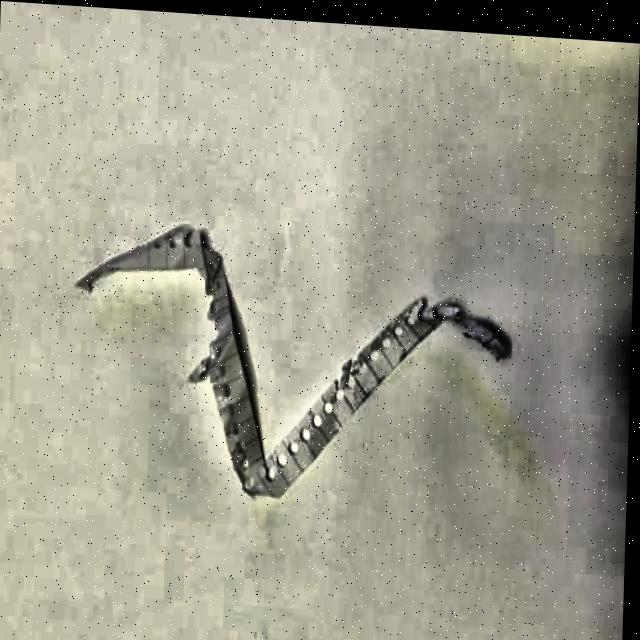paper: (65, 210, 511, 517)
